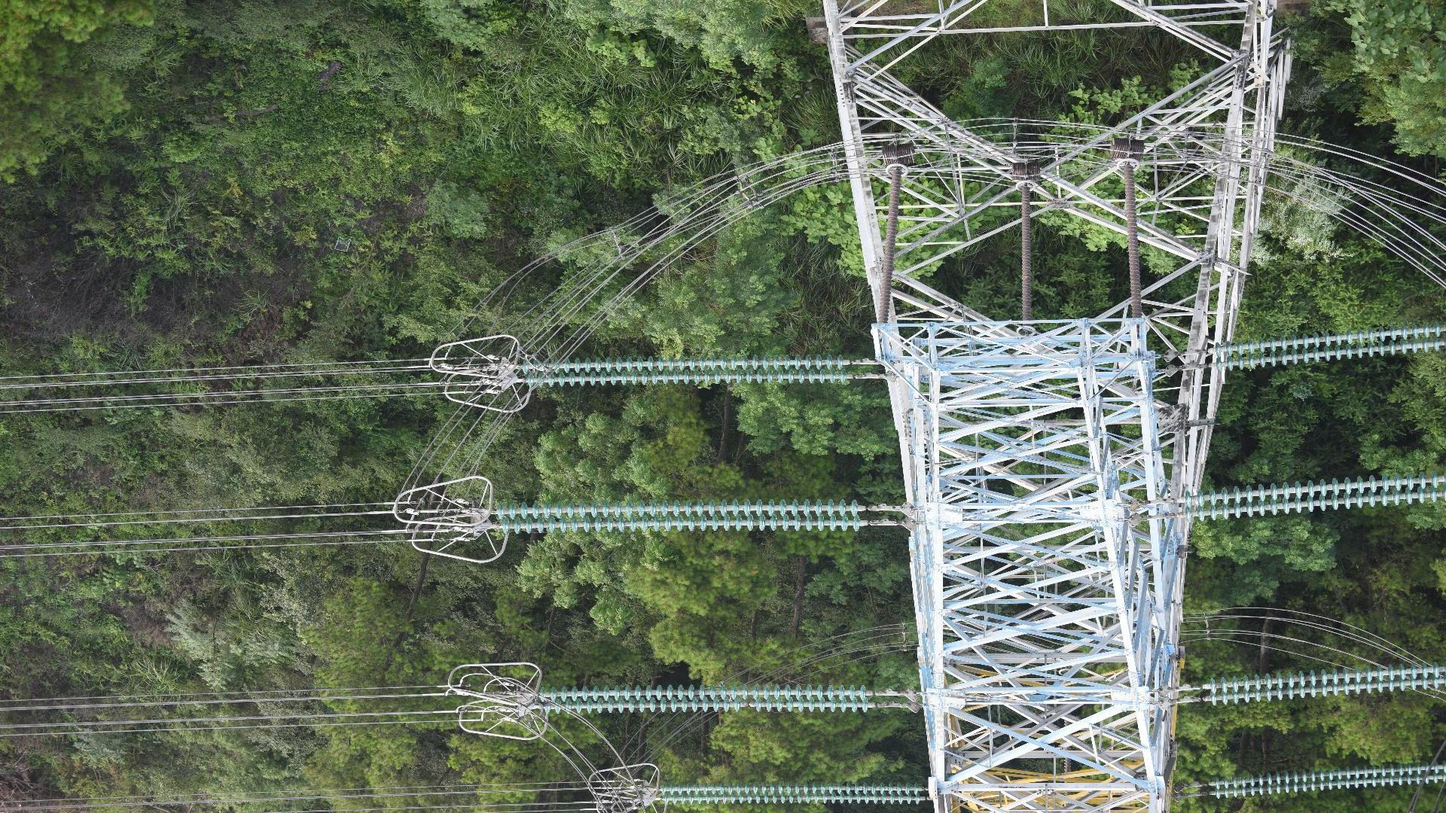insulator: (496, 496, 862, 536), (1183, 470, 1446, 525), (1214, 319, 1446, 375), (521, 352, 849, 389), (537, 681, 871, 717), (1208, 661, 1444, 709), (1213, 760, 1446, 802), (659, 778, 923, 808), (874, 168, 906, 326), (1121, 162, 1144, 320), (1018, 184, 1035, 323)
insulator_stringdrop: (731, 696, 763, 714)
